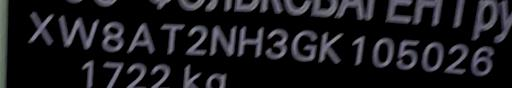letter: (55, 11, 99, 52), (20, 10, 60, 47), (154, 19, 186, 57), (466, 42, 500, 76), (208, 23, 240, 59), (98, 16, 128, 54), (128, 19, 158, 57), (262, 23, 292, 61), (289, 26, 319, 62), (367, 33, 397, 69), (236, 23, 264, 61), (318, 27, 346, 65), (394, 35, 422, 69), (419, 39, 447, 73), (443, 42, 473, 73), (184, 21, 208, 59), (346, 32, 370, 67)
